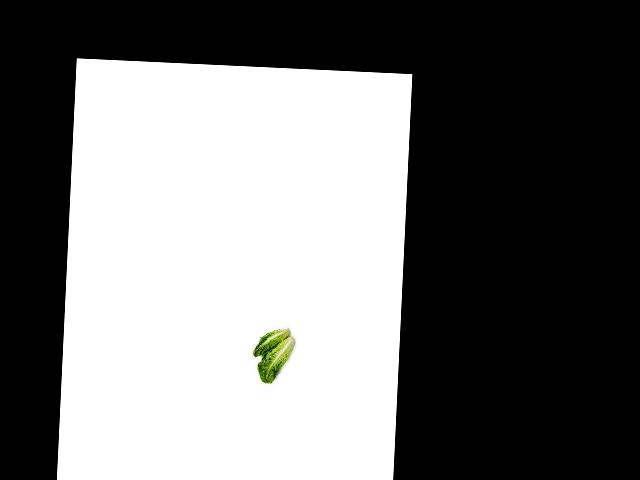lettuce: (255, 338, 297, 385)
